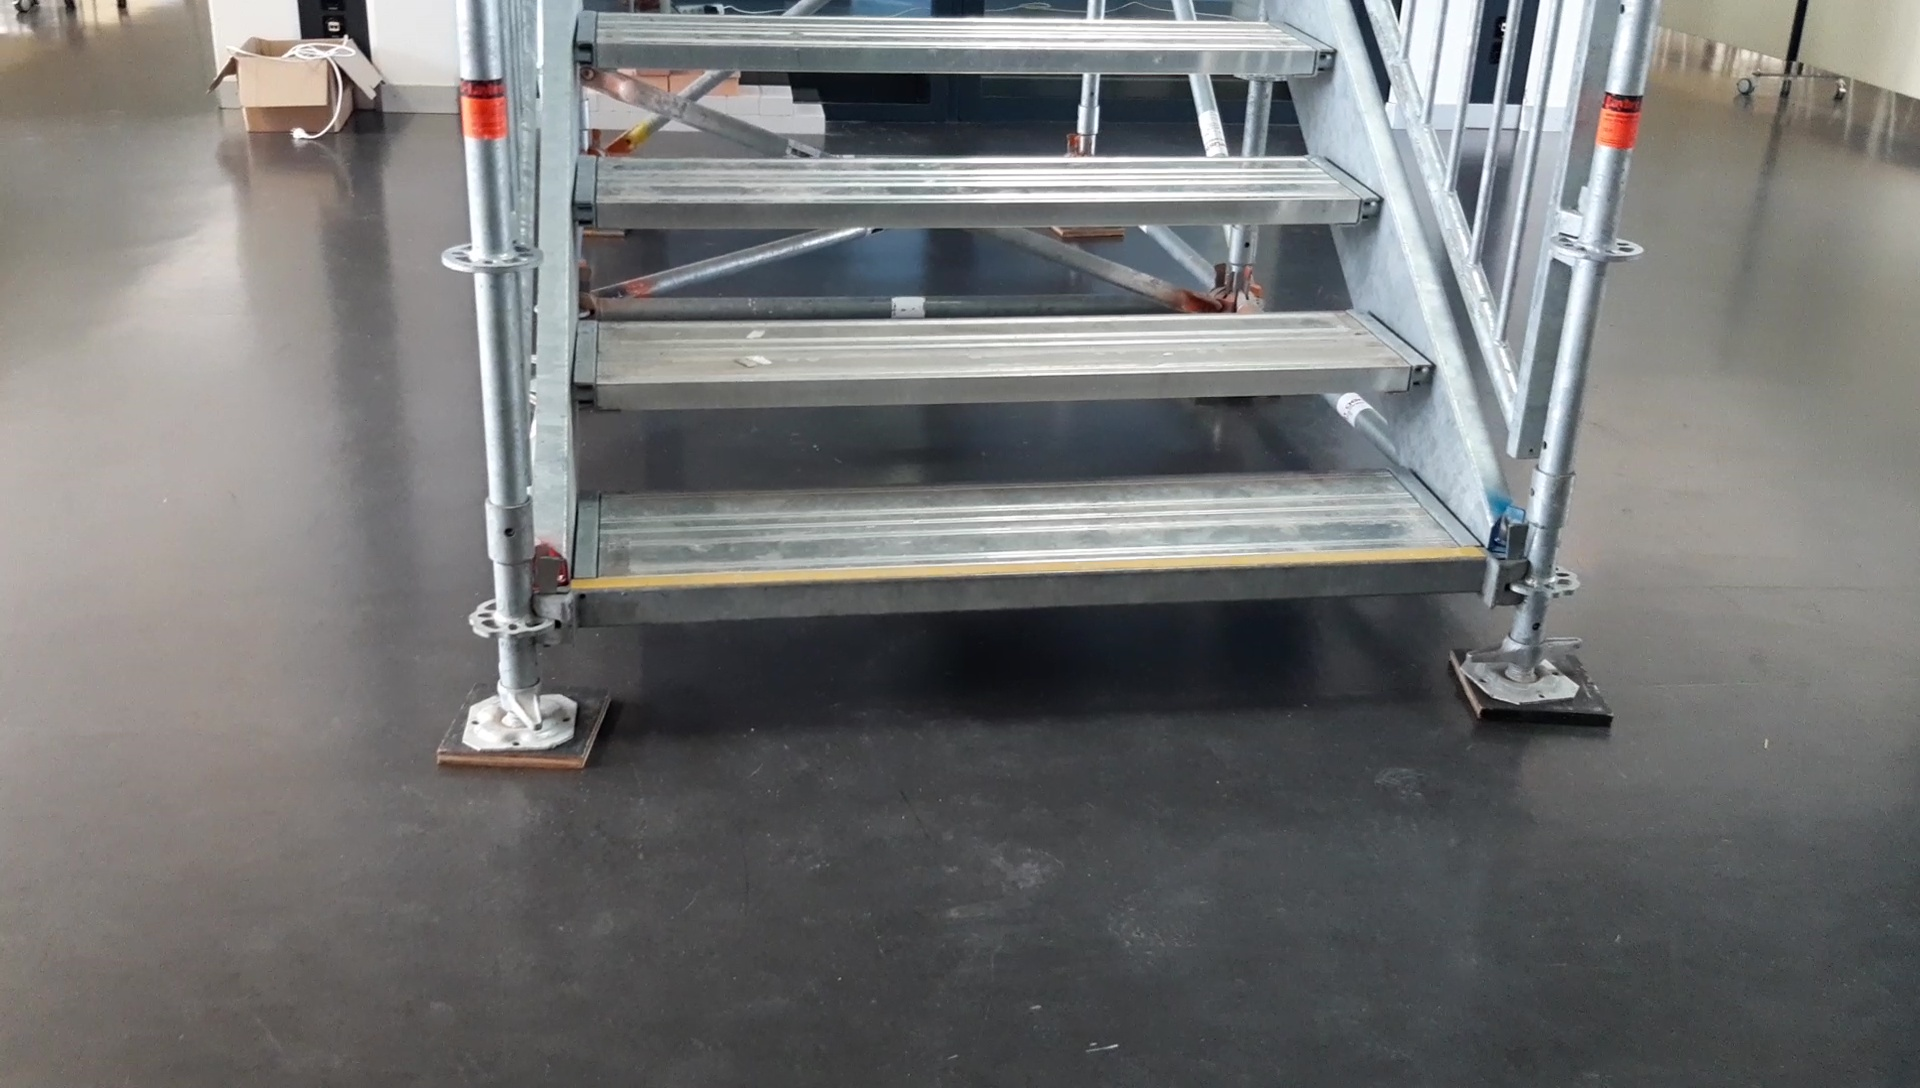edge: (575, 553, 1485, 620), (570, 360, 1437, 408), (574, 40, 1336, 73), (572, 196, 1382, 226)
stairs: (427, 3, 1611, 775)
